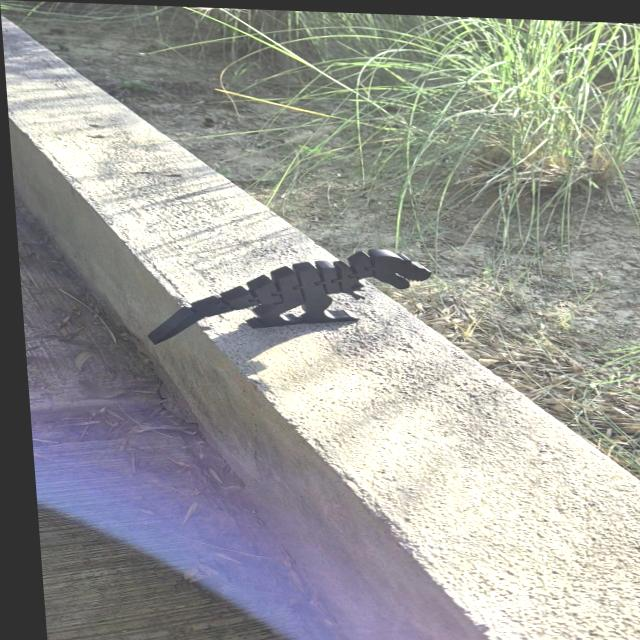dino: (138, 239, 440, 356)
